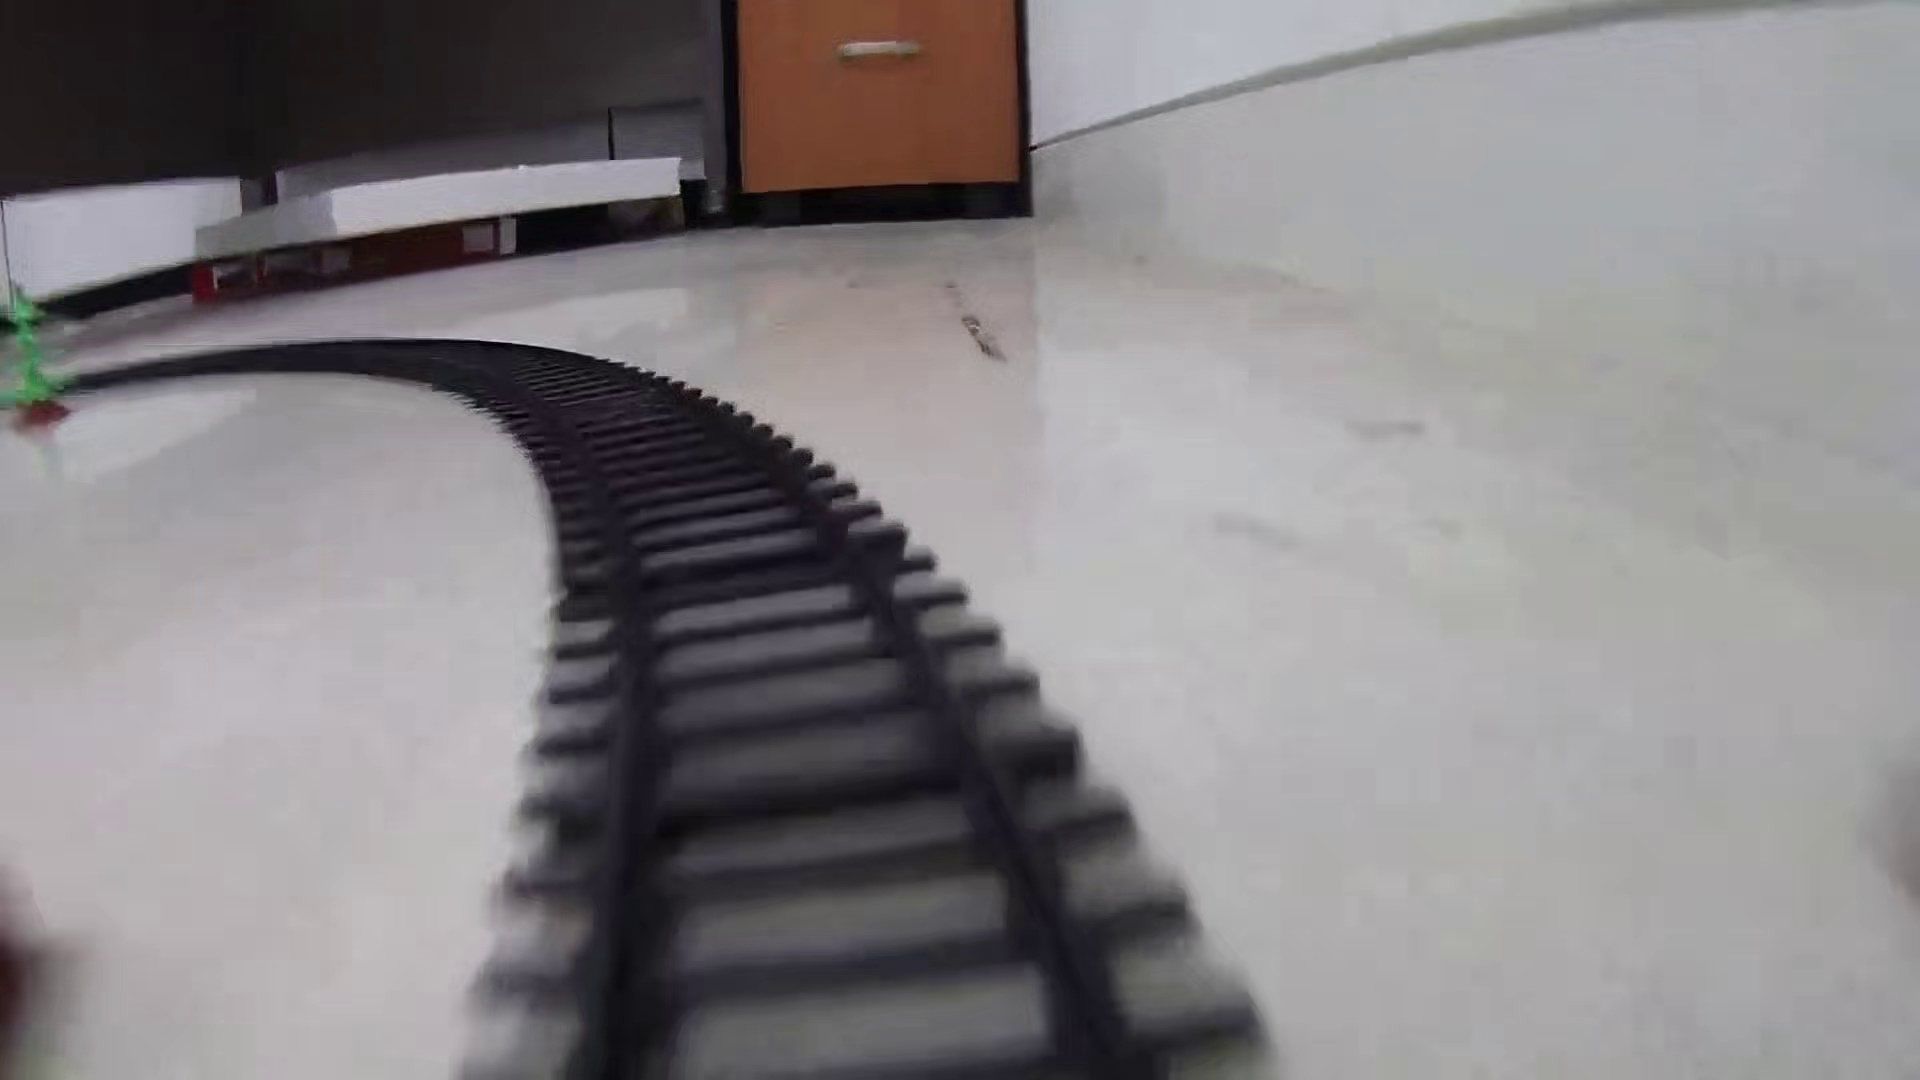tree: (1, 270, 75, 438)
